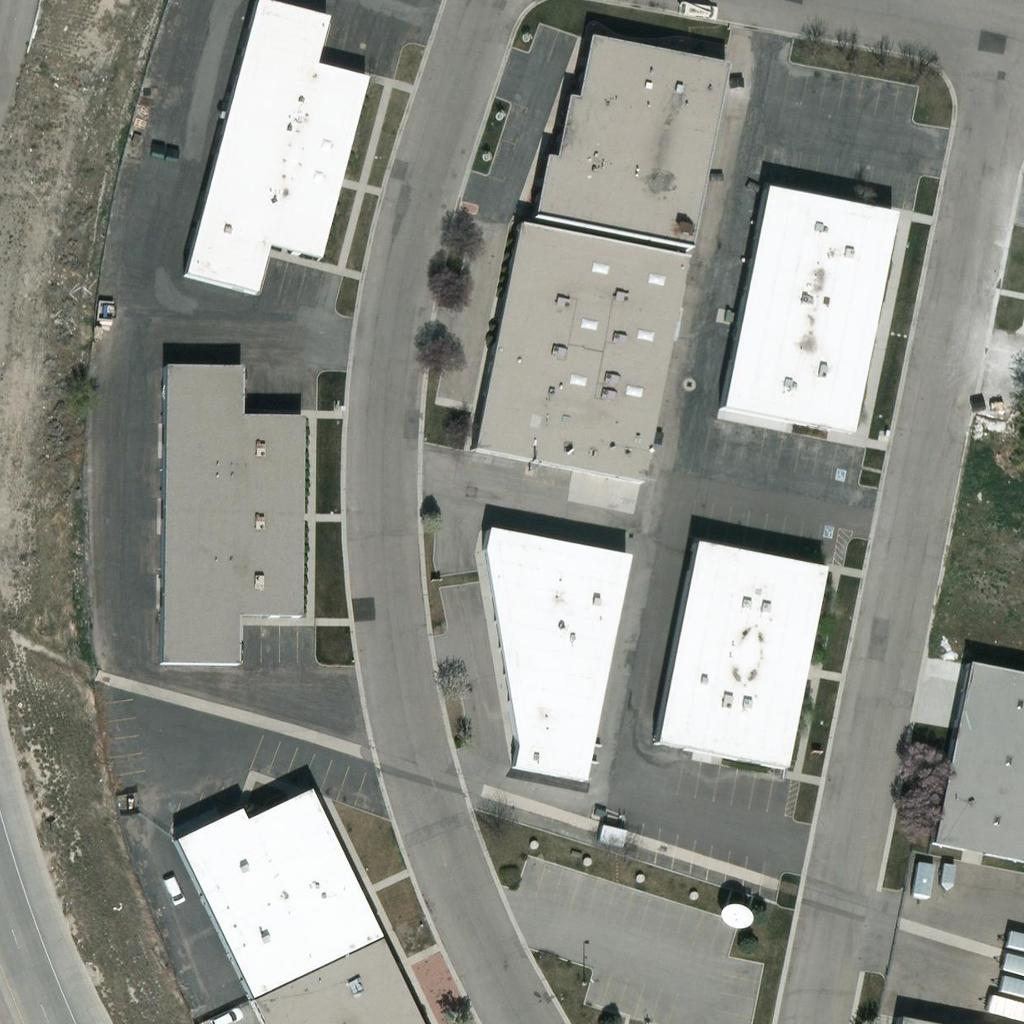car: (155, 869, 189, 903), (685, 0, 719, 26), (207, 1002, 241, 1024)
